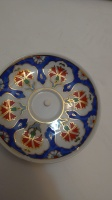Yuvarlak Buskopan: (43, 98, 52, 107)
